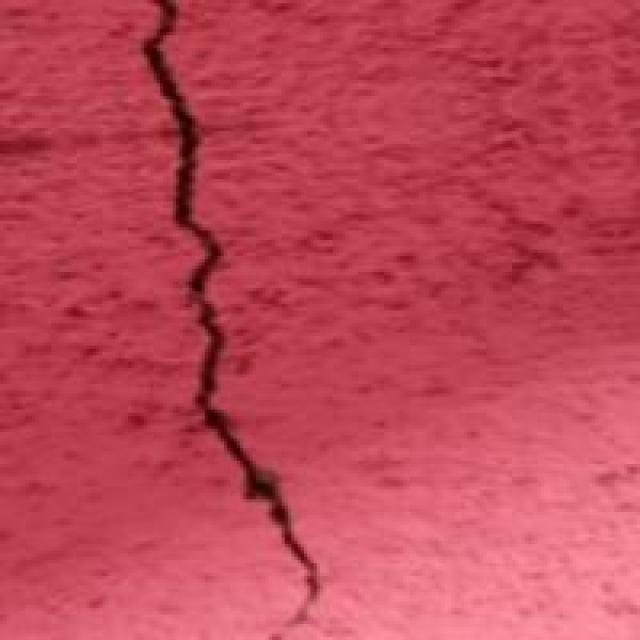crack: (83, 3, 400, 637)
